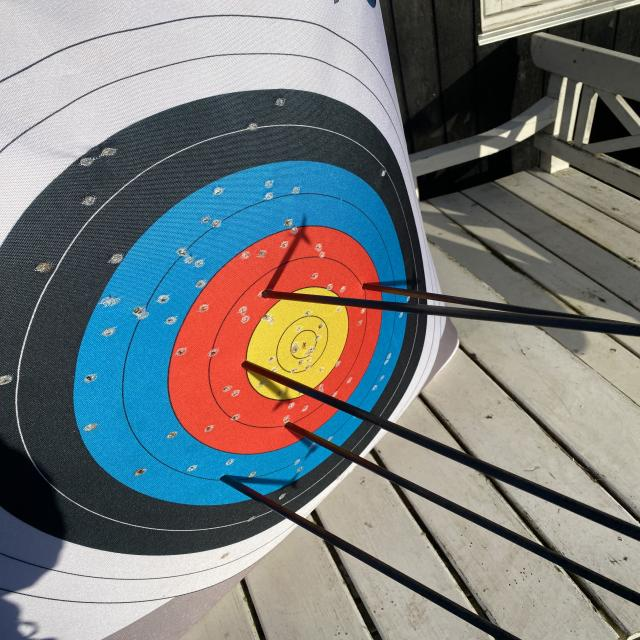Arrow_Blue: (196, 460, 260, 494)
Arrow_Red: (353, 274, 396, 302), (252, 280, 289, 312), (221, 355, 266, 378), (276, 409, 310, 438)
